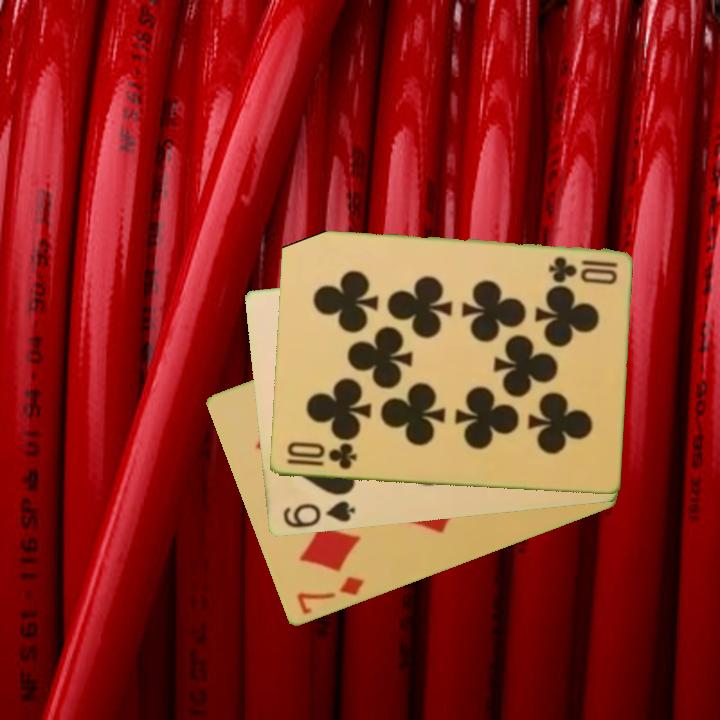10c: (283, 438, 360, 473), (544, 253, 620, 285)
6s: (279, 497, 358, 532)
7d: (293, 573, 367, 618)
